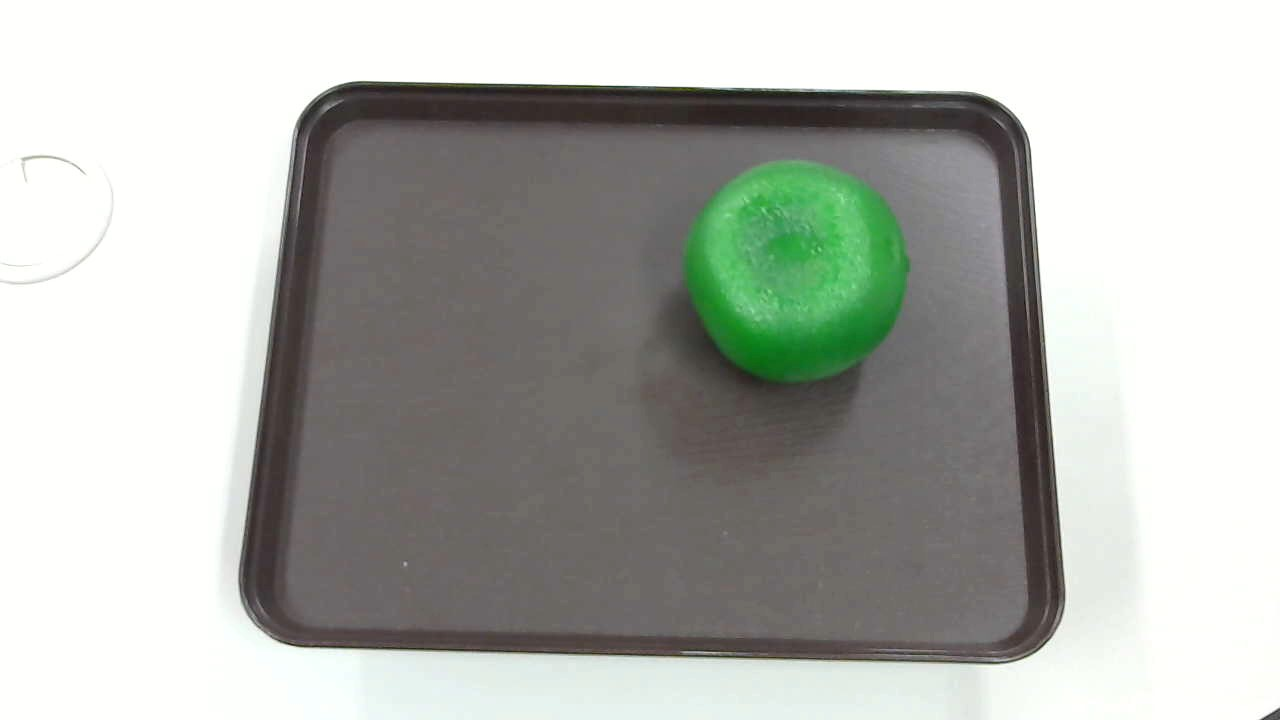green orange: (678, 154, 915, 386)
